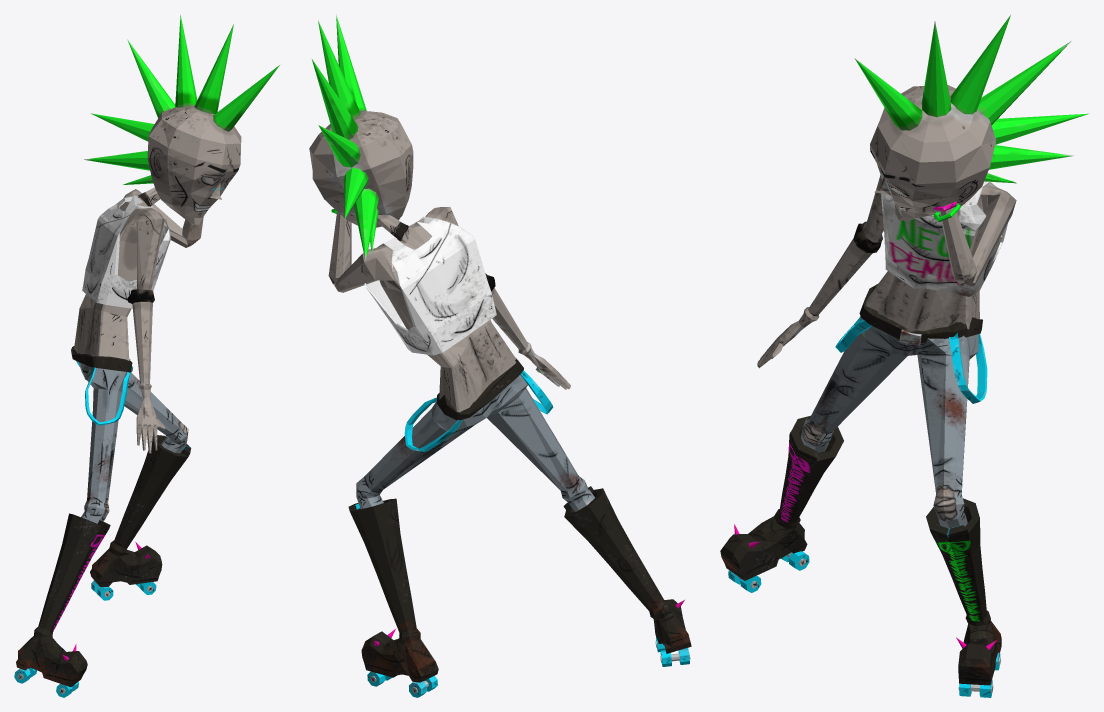
Rendered from punkAnimation_000046.obj.
3 views of the same model, side by side, from view 1: azimuth 30°, elevation 25°; view 2: azimuth 150°, elevation 25°; view 3: azimuth 270°, elevation 25° (orthographic). The views are drawn at different scales.
Parts seen in each view (by area): view 1: Cube.004_Cube.003; view 2: Cube.004_Cube.003; view 3: Cube.004_Cube.003.
Part boxes in pixels (left/top/right/bottom): Cube.004_Cube.003: left=14, top=15, right=279, bottom=697; Cube.004_Cube.003: left=309, top=14, right=691, bottom=697; Cube.004_Cube.003: left=720, top=15, right=1088, bottom=697.
Bounding box in the file's own units: 3.63 × 6.69 × 3.1.
